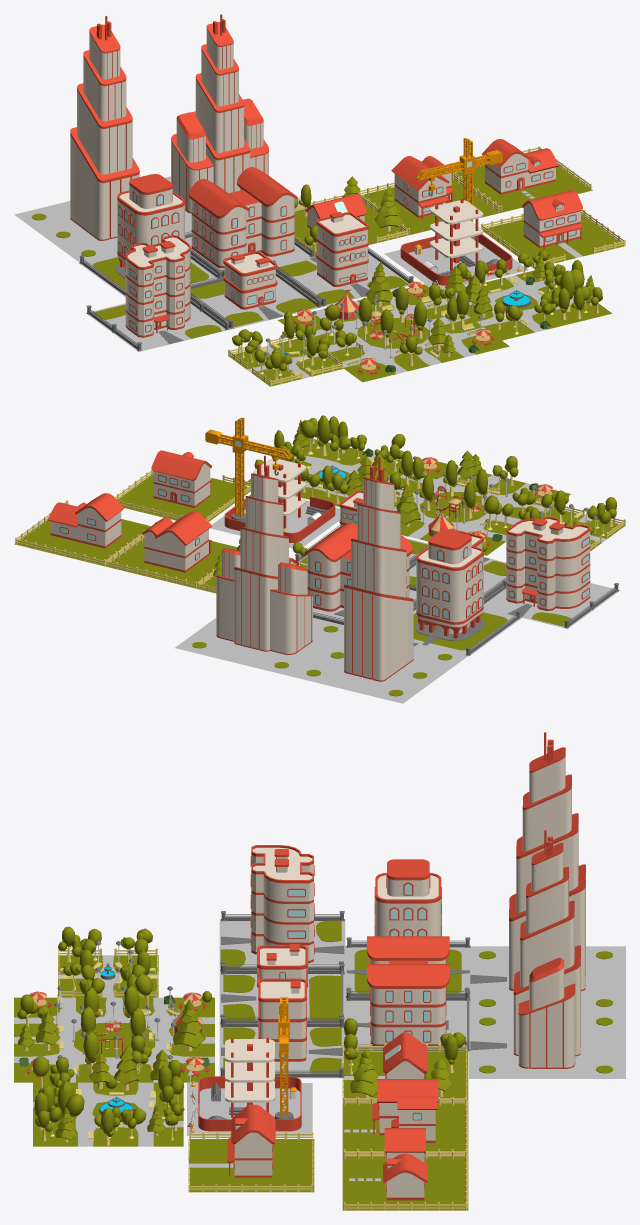
The model's file is cartoonCity_BG.fbx.
3 views of the same model, one above another, from view 1: azimuth 30°, elevation 25°; view 2: azimuth 150°, elevation 25°; view 3: azimuth 270°, elevation 25° (orthographic). The views are drawn at different scales.
Visible parts, largest first — view 1: Park03, c035, c036, Park02, a014, a003, Park01, a013, a005, land_a004, land_dh012, land_construction.001 (+16 smaller); view 2: c036, c035, Park03, a003, Park02, a013, land_c035, land_c036, a014, dh002, dh003, land_dh012 (+13 smaller); view 3: Park03, c036, Park02, a014, c035, land_c036, a003, land_dh012, land_c035, land_dh003, Park01, a013 (+17 smaller).
Part boxes in pixels (<box>): Park03: <box>277,261,509,382</box>; c035: <box>70,16,139,240</box>; c036: <box>171,14,268,213</box>; Park02: <box>445,250,611,340</box>; a014: <box>188,167,297,268</box>; a003: <box>125,235,190,337</box>; Park01: <box>228,315,343,386</box>; a013: <box>117,174,184,271</box>; a005: <box>316,212,368,286</box>; land_a004: <box>190,270,322,329</box>; land_dh012: <box>481,209,625,268</box>; land_construction.001: <box>384,234,528,289</box>; c036: <box>216,455,312,654</box>; c035: <box>344,457,413,681</box>; Park03: <box>376,450,570,555</box>; a003: <box>506,516,590,610</box>; Park02: <box>245,415,405,506</box>; a013: <box>416,529,483,638</box>; land_c035: <box>289,636,467,703</box>; land_c036: <box>175,617,343,675</box>; a014: <box>304,522,412,611</box>; dh002: <box>142,511,211,572</box>; dh003: <box>47,493,124,548</box>; land_dh012: <box>115,469,250,521</box>; Park03: <box>14,974,214,1082</box>; c036: <box>513,830,580,1068</box>; Park02: <box>32,1049,184,1146</box>; a014: <box>367,936,449,1045</box>; c035: <box>509,732,585,991</box>; land_c036: <box>469,1012,625,1078</box>; a003: <box>250,845,314,963</box>; land_dh012: <box>188,1132,314,1192</box>; land_c035: <box>469,946,625,1012</box>; land_dh003: <box>342,1151,468,1210</box>; Park01: <box>58,926,158,997</box>; a013: <box>374,859,441,936</box>.
Bounding box in the file's own units: 10988 × 4347 × 9739.
Materials: 2 (2 with a texture image).
